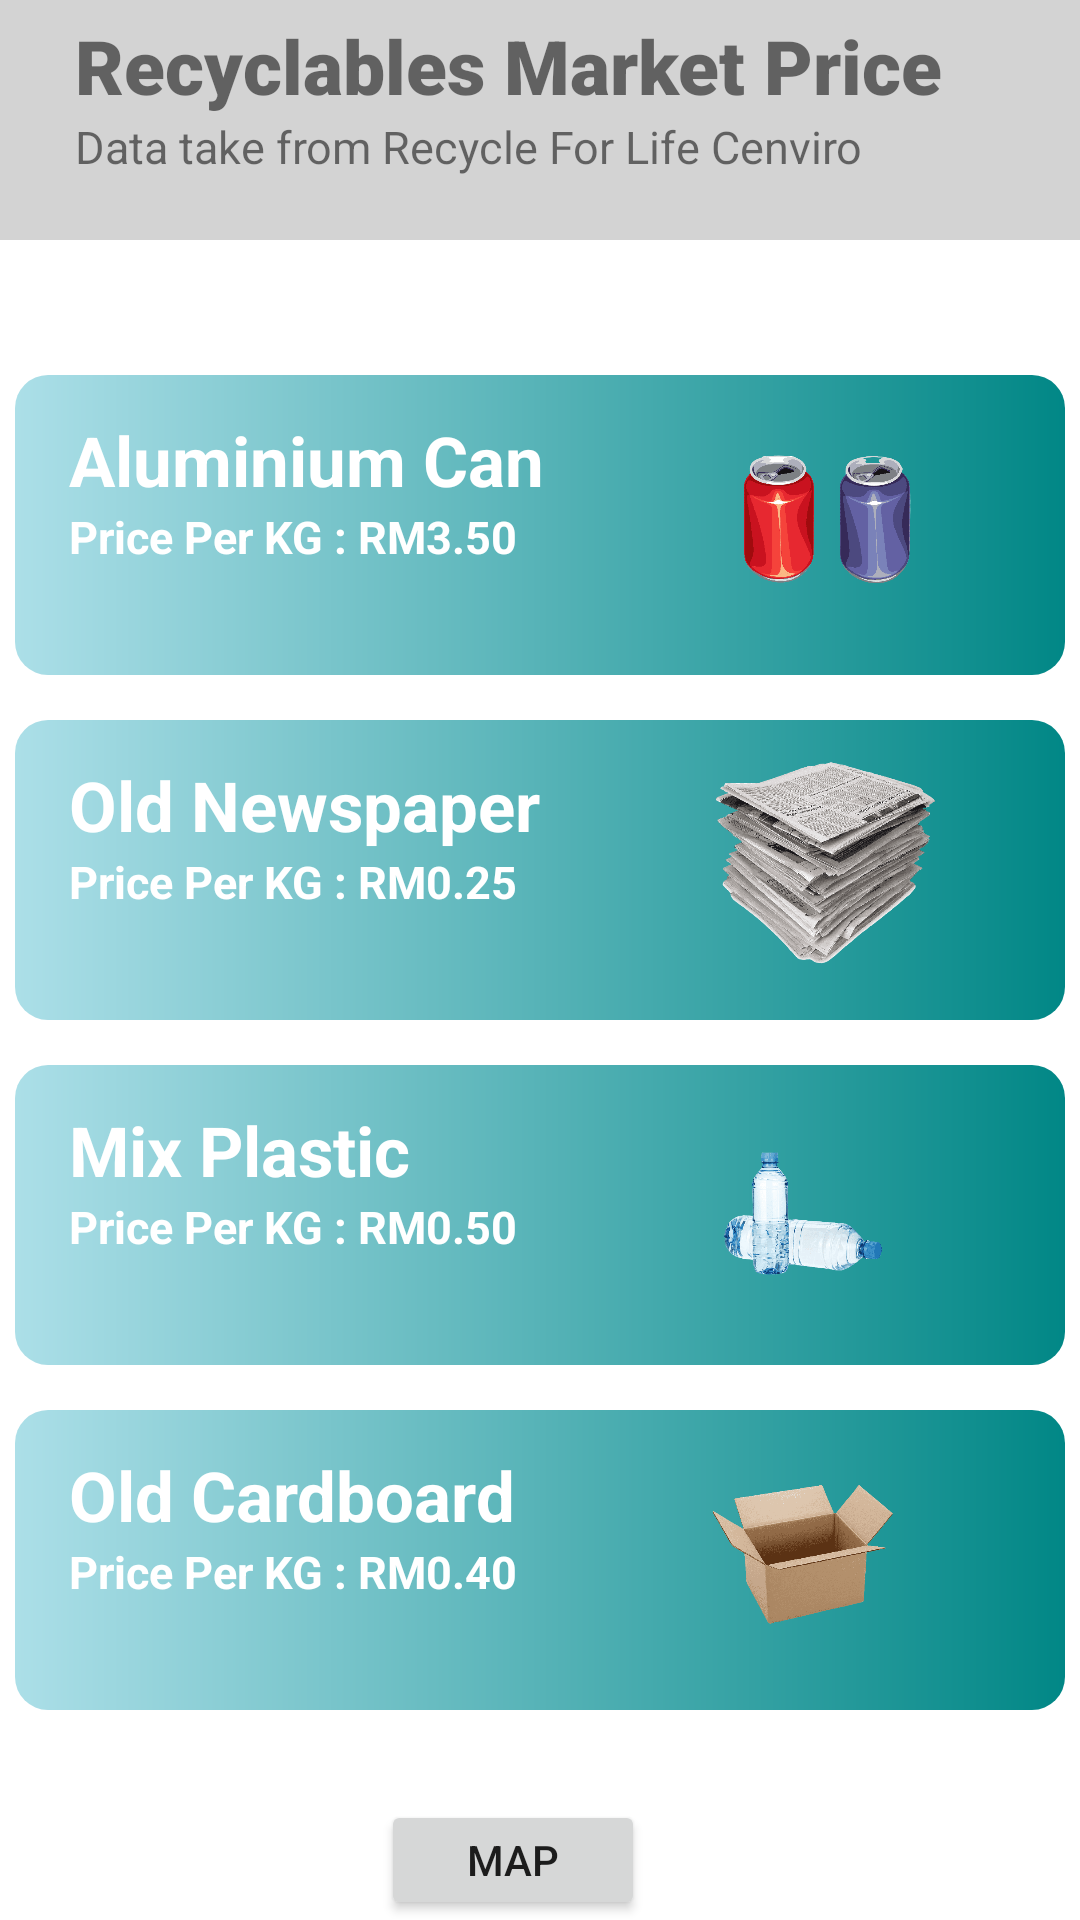

Icons on this 1080x1920 Android screen, each with the point to tap as (x,y):
cardboard: (803,1554)
